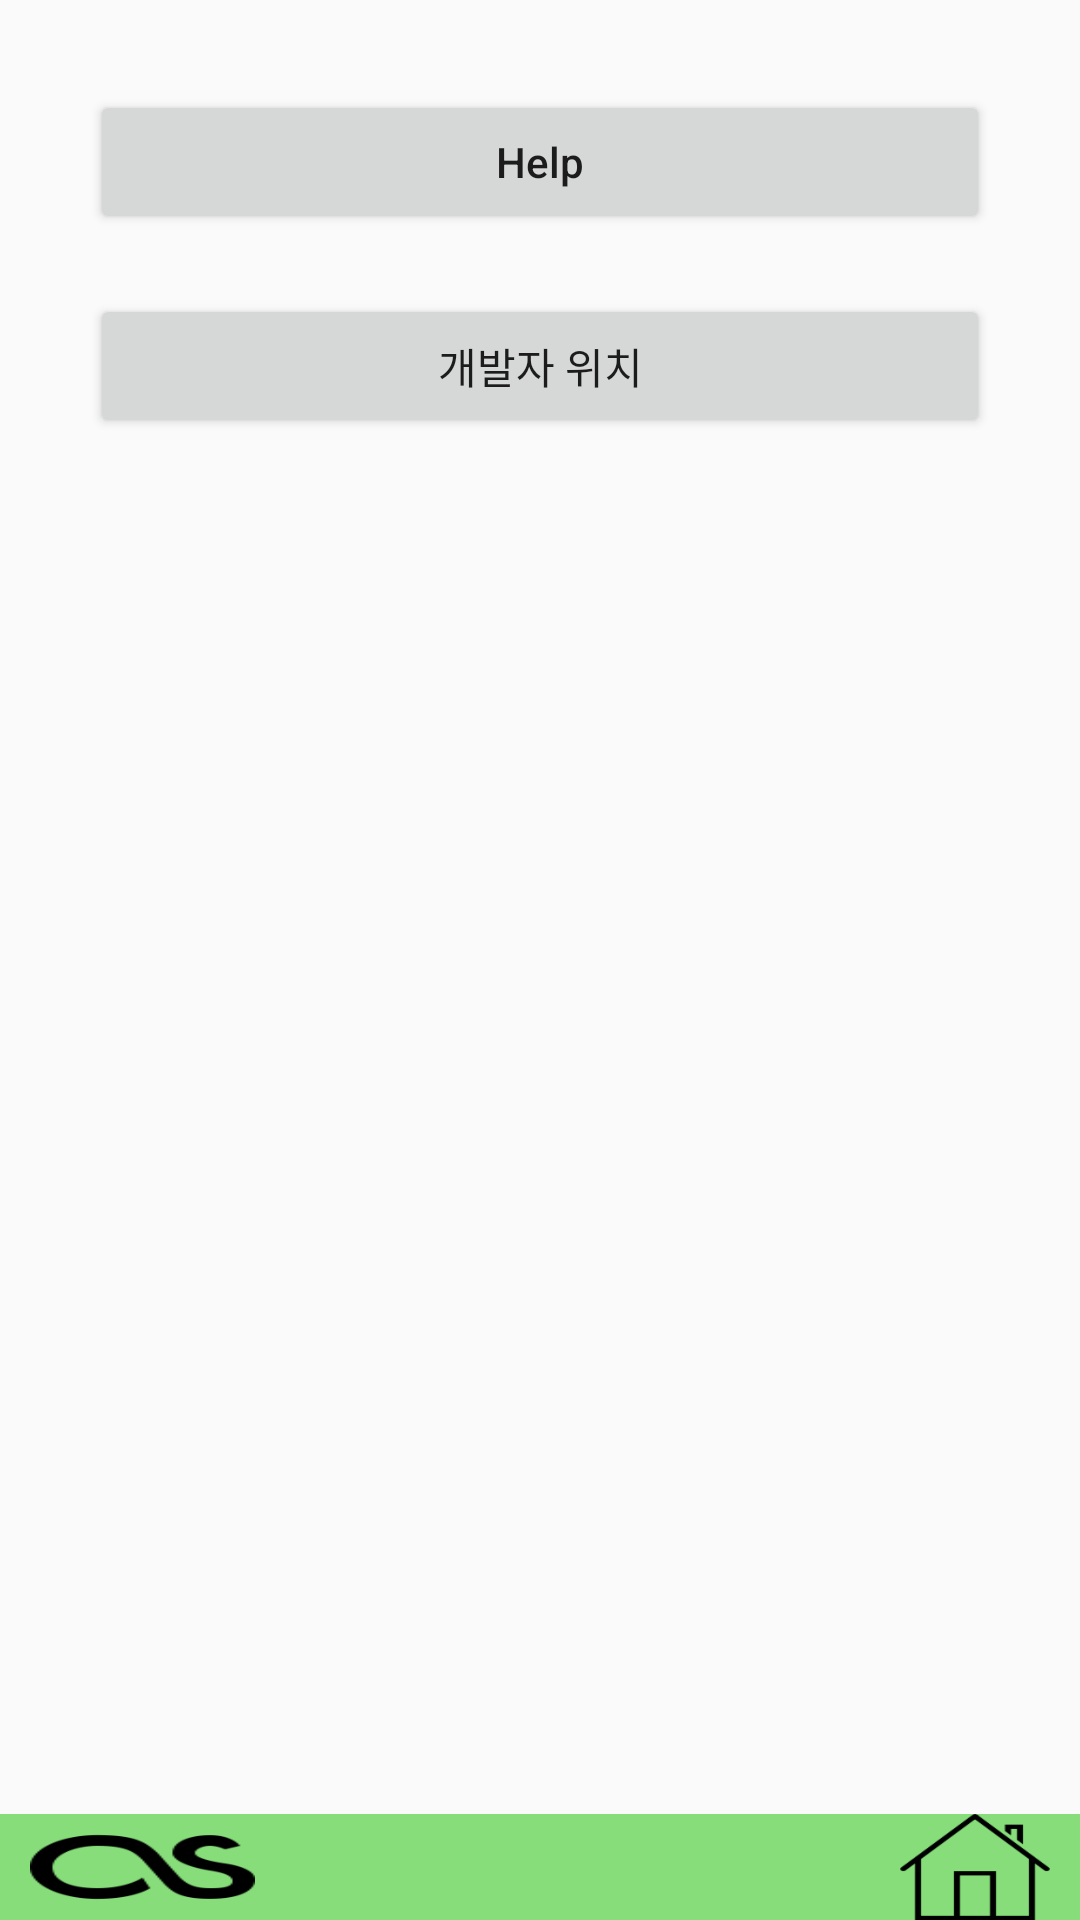

Icon click points for this 1080 x 1920 phone screenshot, format point (x, y):
home: point (975, 1867)
